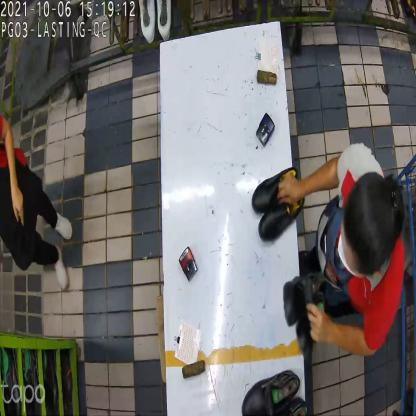shoes: (251, 164, 302, 244), (283, 270, 324, 356), (241, 366, 309, 415)
stamp: (256, 112, 275, 148), (178, 247, 198, 281)
